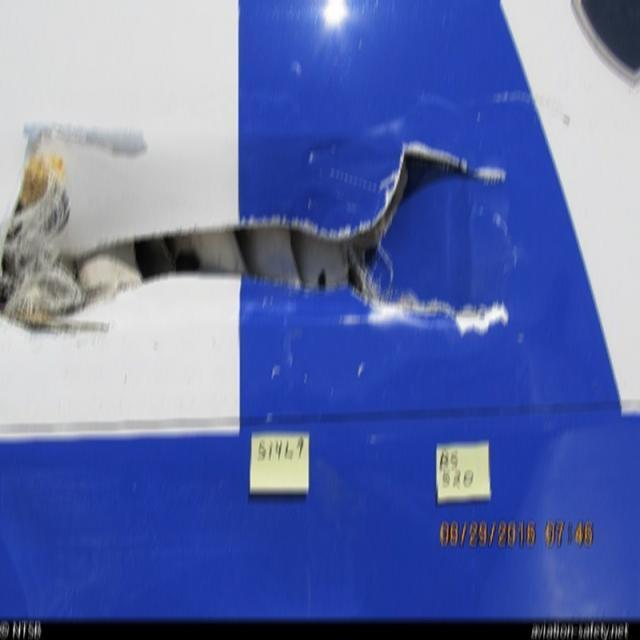crack: (415, 137, 516, 192), (396, 284, 499, 326)
